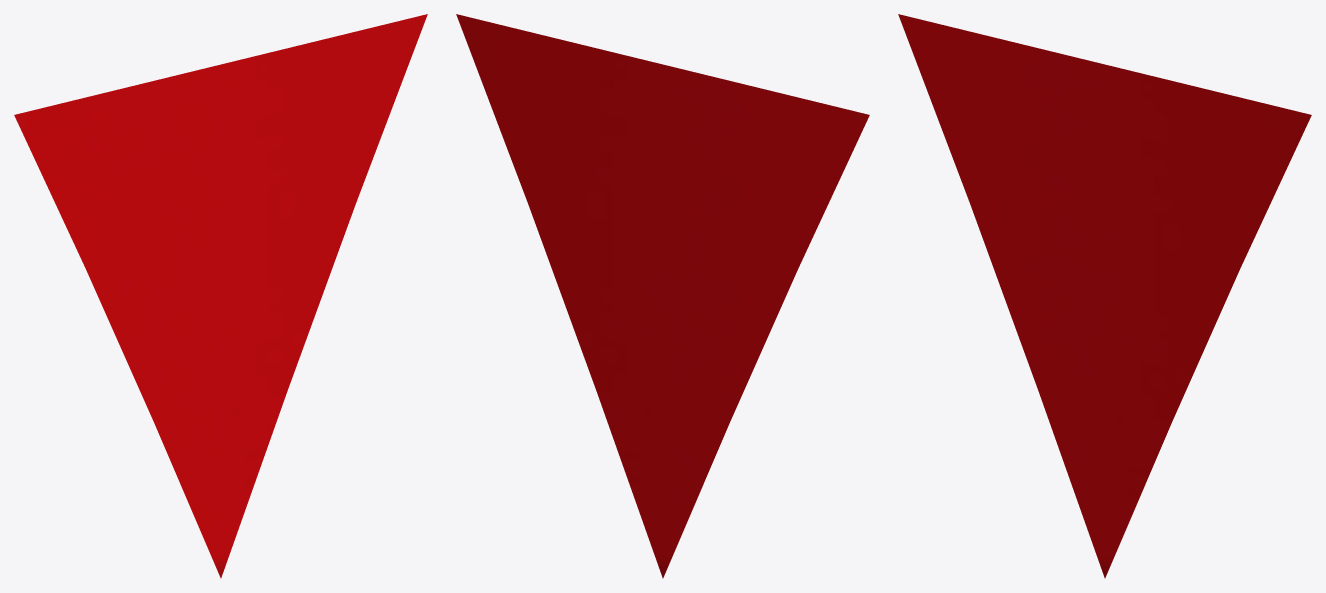
File: Flag_Red.glb
3 renders of one model, left to right at view 1: azimuth 30°, elevation 25°; view 2: azimuth 150°, elevation 25°; view 3: azimuth 330°, elevation 25°, orthographic.
Parts seen in each view (by area): view 1: Flag_Red.001; view 2: Flag_Red.001; view 3: Flag_Red.001.
Boxes of the visible parts, <box> form: Flag_Red.001: <box>14,14,427,578</box>; Flag_Red.001: <box>456,14,869,578</box>; Flag_Red.001: <box>898,14,1311,578</box>.
Bounding box in the file's own units: 0.3367 × 0.4 × 1.75e-08.
1 material, 1 textured.
